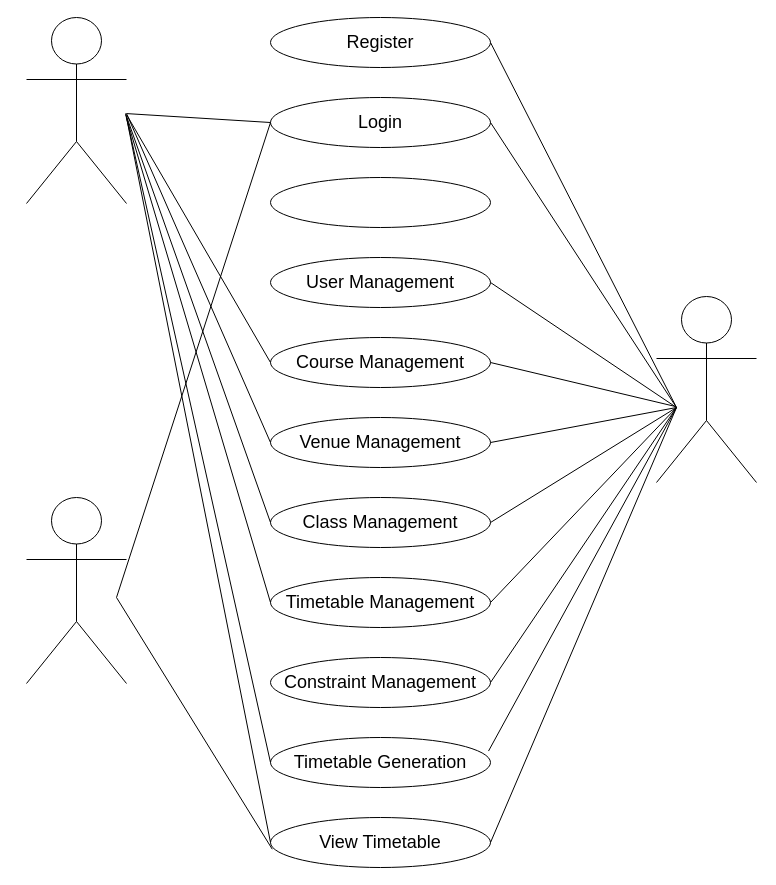
This 776x885 diagram has some shape labels left out. Here are the shapes that lost their labels. From the top down, the centre of each, then its label:
(76,110): Exams Office Personnel
(380,202): Logout
(706,389): Administrator
(76,590): External Users
